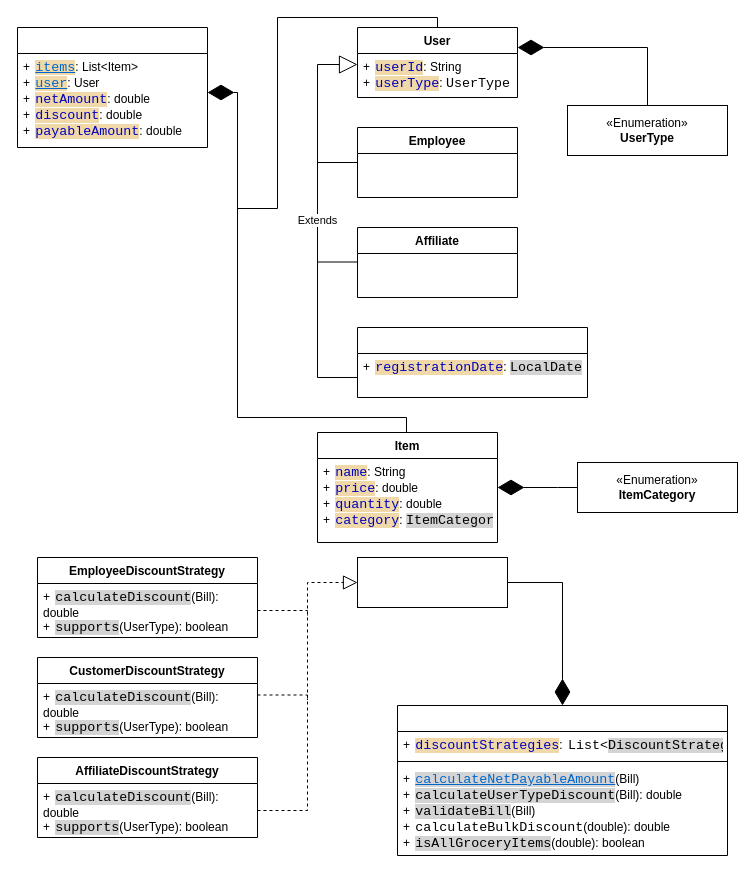
The diagram is 755 pixels wide and 876 high, and some of its shapes have lost their labels. The box of each missing label's shape, as (x1, y1, x2, y2) in pixels:
Bill: (16, 26, 208, 148)
Customer: (356, 326, 588, 398)
DiscountCalculationService: (396, 704, 728, 856)
«interface» DiscountStrategy: (356, 556, 508, 608)
